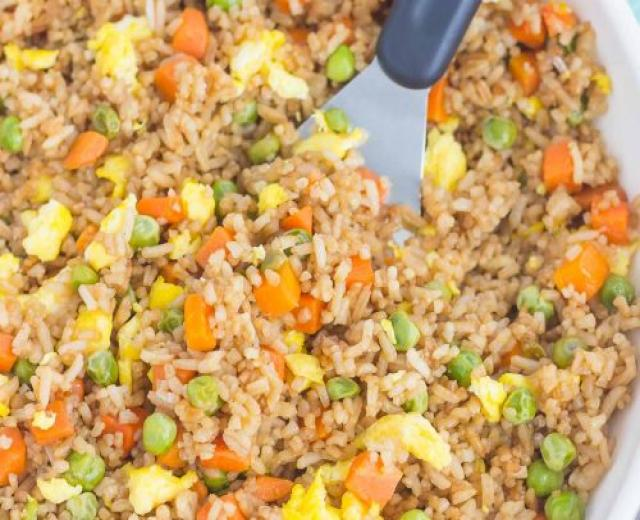fried rice: (0, 55, 627, 509), (8, 7, 346, 230), (278, 0, 612, 218), (236, 4, 386, 125)
